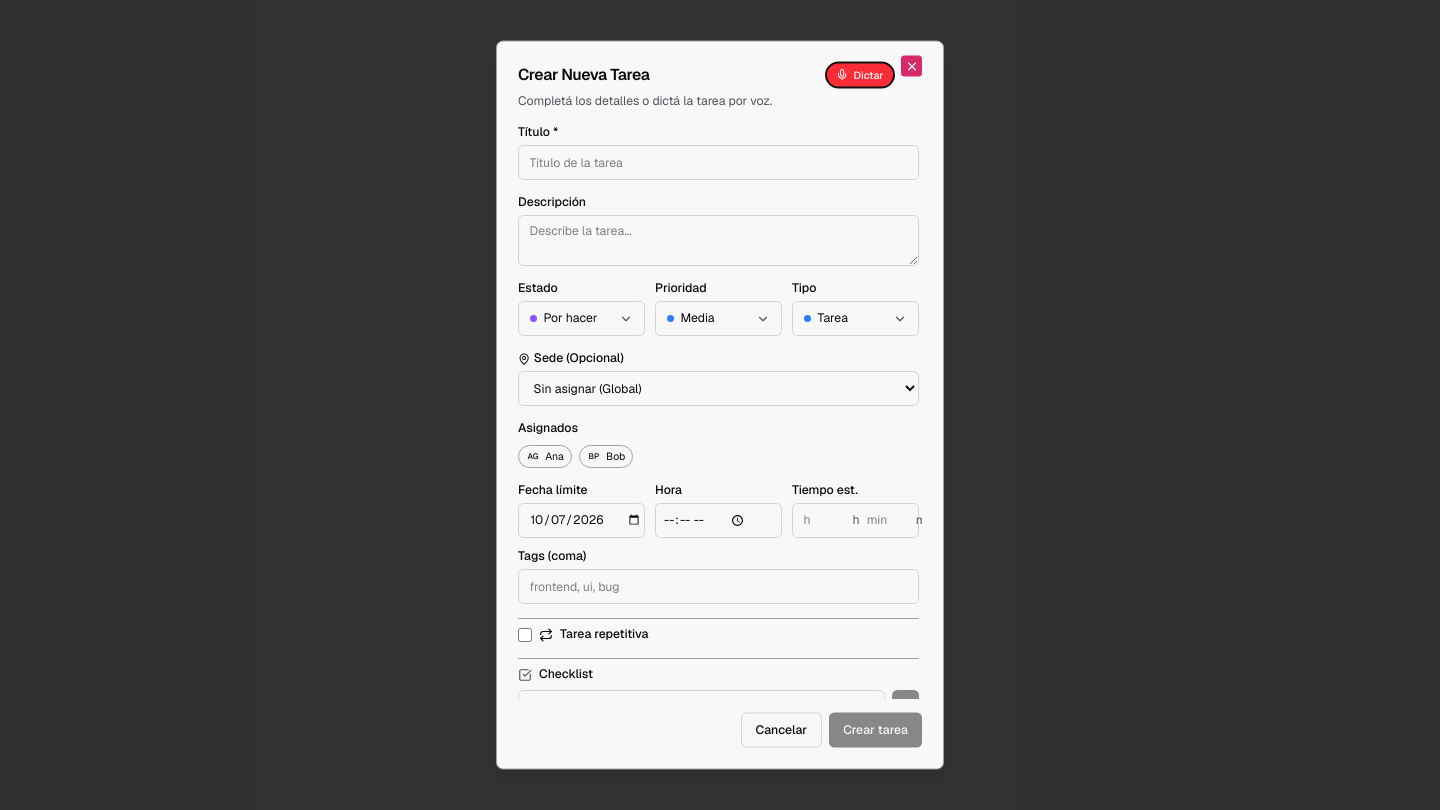
Test: CreateTaskModal › segundo clic en assignee lo quita de assigneeIds
Click the button "AG Ana" at x=545, y=456, box [518,444,572,467]
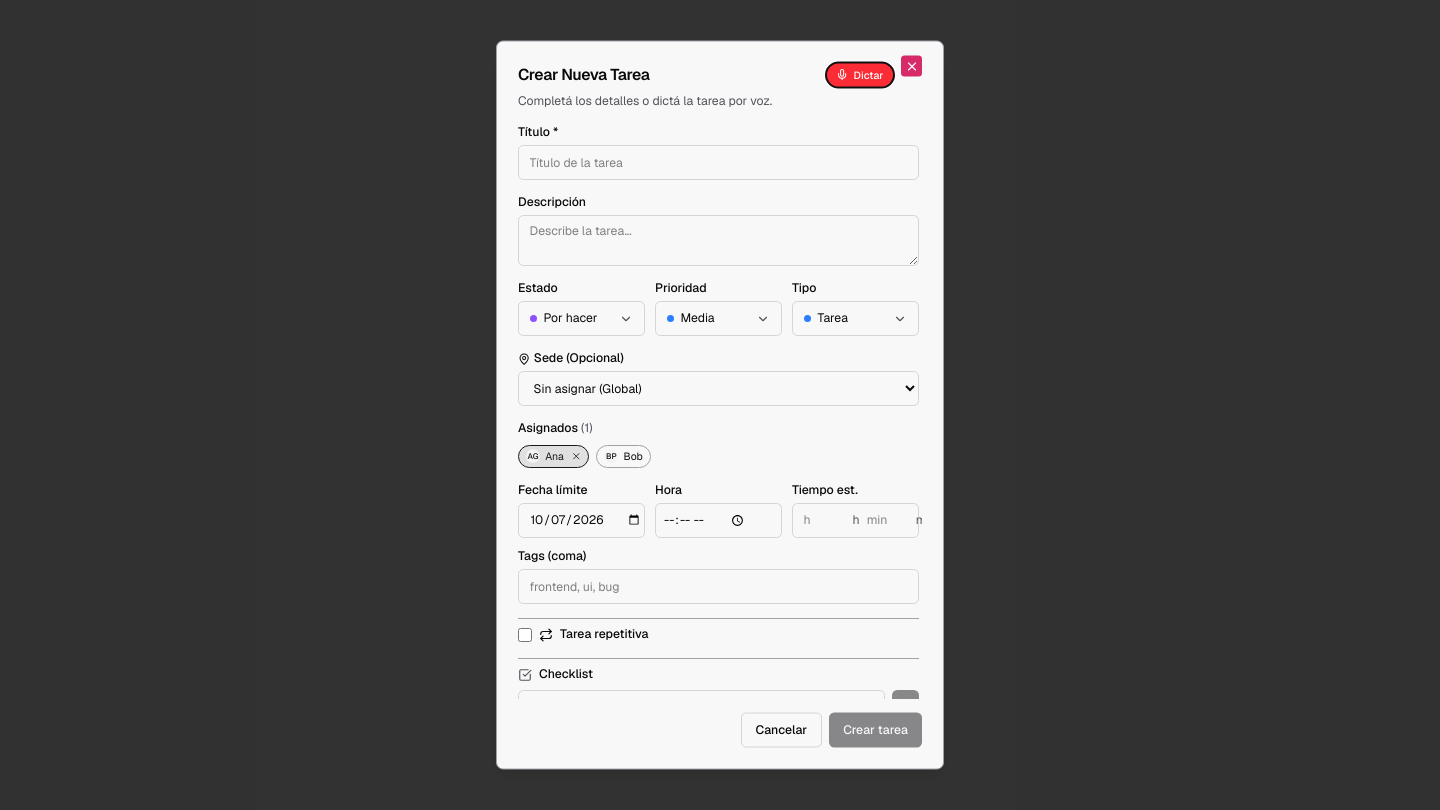
Click the button "AG Ana" at x=554, y=456, box [518,444,589,467]
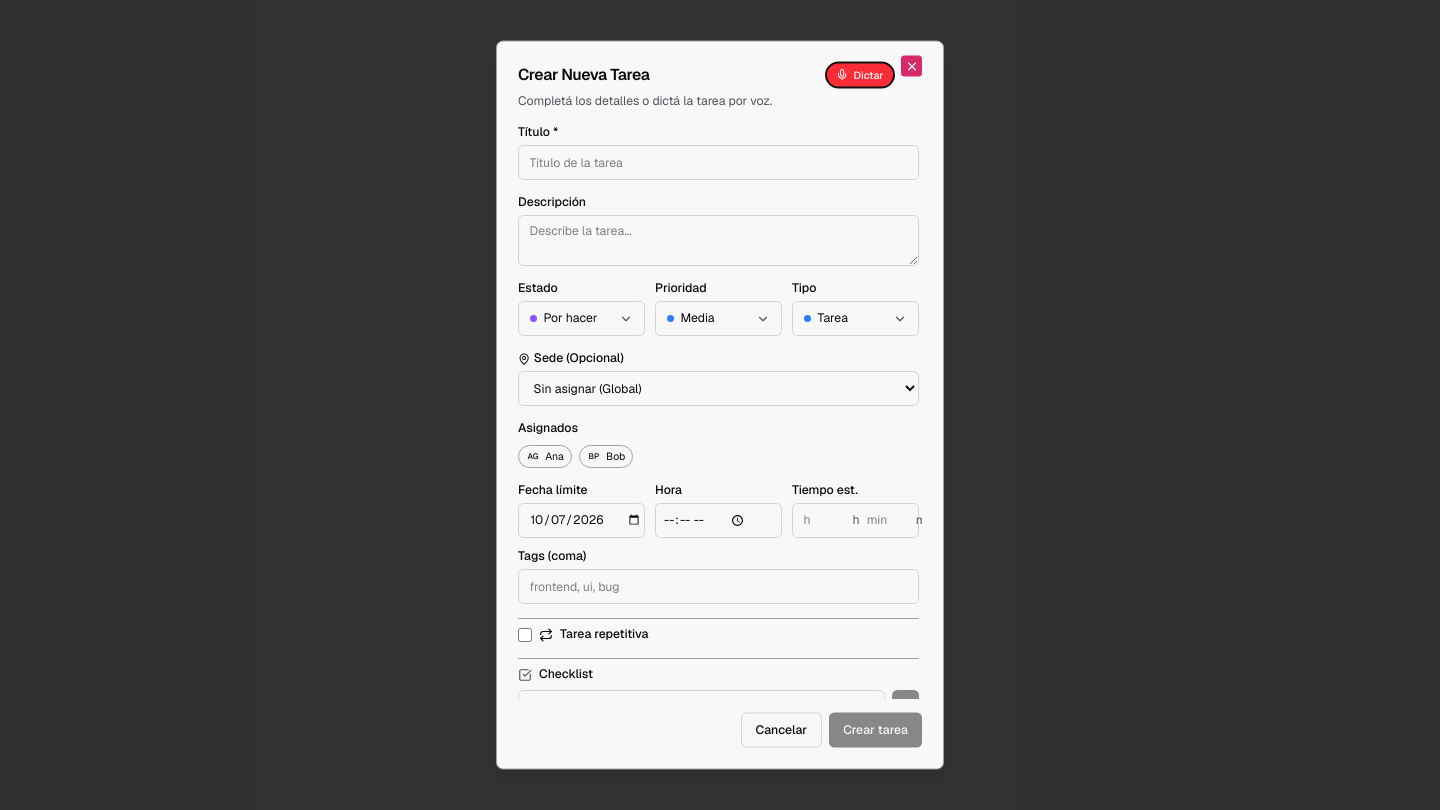
Now the text "(1)" is gone
